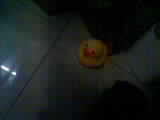duck: (77, 33, 107, 66)
